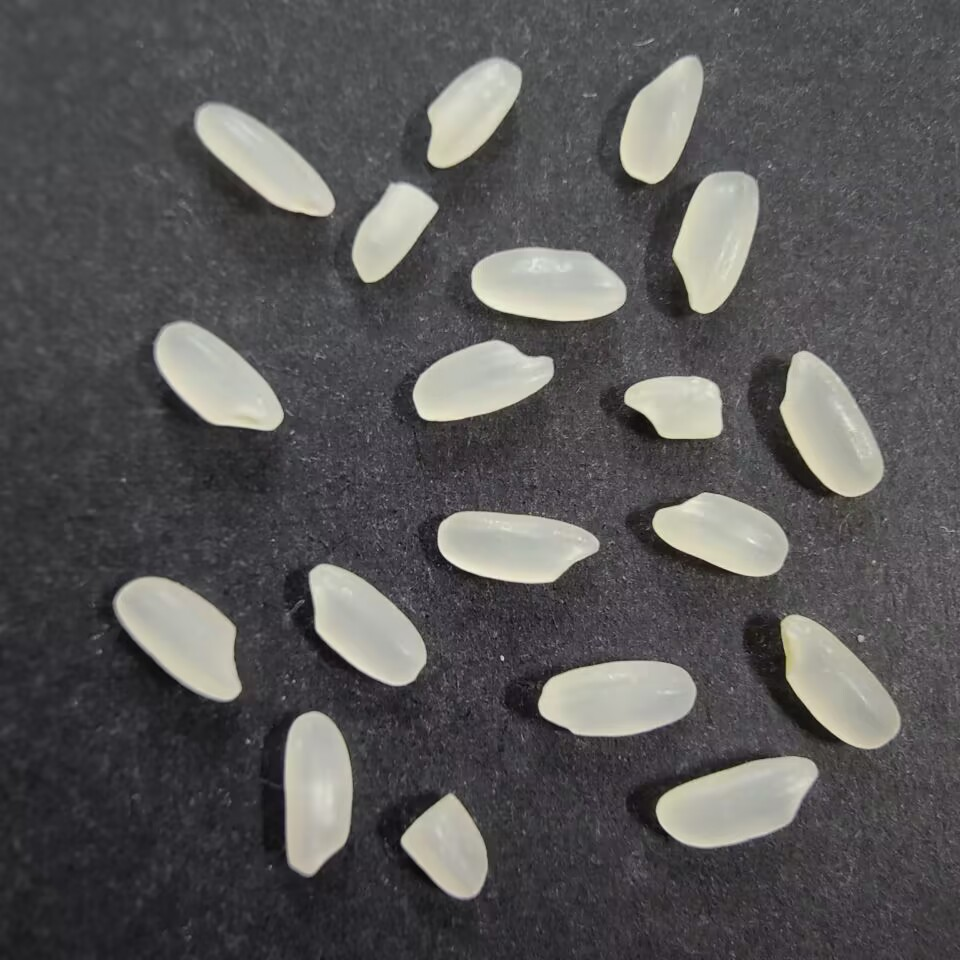broken: (395, 790, 494, 902), (350, 179, 442, 288), (620, 370, 729, 444)
rice: (107, 573, 249, 705), (777, 608, 905, 754), (191, 98, 339, 220), (776, 348, 889, 499), (651, 752, 821, 850), (306, 560, 432, 690), (153, 318, 288, 436), (668, 166, 762, 319), (646, 487, 792, 582), (430, 505, 601, 585), (535, 660, 701, 741), (281, 709, 357, 884), (412, 338, 556, 427), (467, 244, 627, 324), (422, 53, 525, 170), (614, 54, 705, 186)
